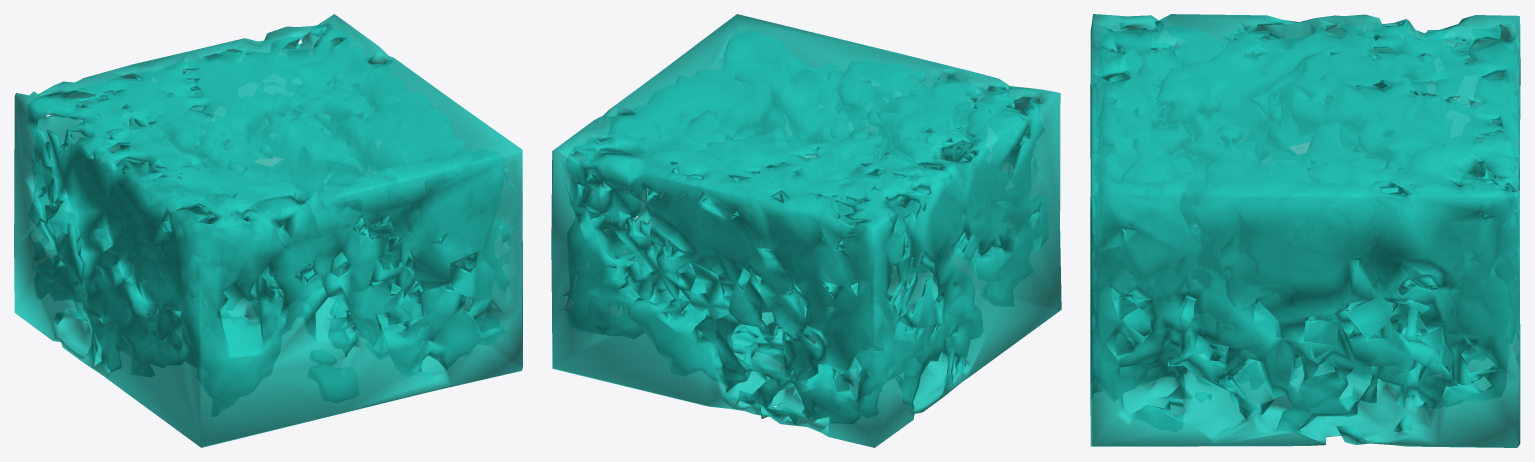
3 renders of one model, left to right at view 1: azimuth 30°, elevation 25°; view 2: azimuth 150°, elevation 25°; view 3: azimuth 270°, elevation 25°, orthographic. The views are drawn at different scales.
Visible parts, largest first — view 1: Liquid_Domain; view 2: Liquid_Domain; view 3: Liquid_Domain.
Part boxes in pixels (x1,y1,x2,y2): Liquid_Domain: (14, 14, 522, 447); Liquid_Domain: (551, 14, 1061, 447); Liquid_Domain: (1090, 14, 1520, 447).
Size of the model in its own units: 392 by 254 by 391.
